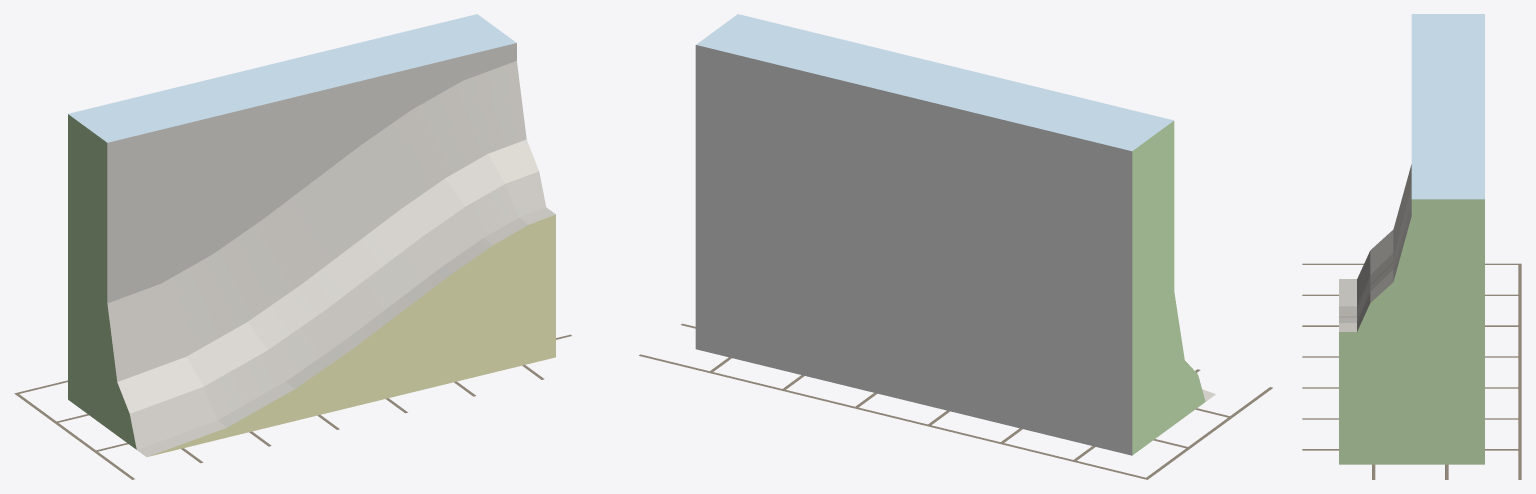
Rendered from Wall_Incline_2x6_Base.glb.
3 views of the same model, side by side, from view 1: azimuth 30°, elevation 25°; view 2: azimuth 150°, elevation 25°; view 3: azimuth 270°, elevation 25° (orthographic). The views are drawn at different scales.
Visible parts, largest first — view 1: Wall_Incline_2x6_Base, Floor; view 2: Wall_Incline_2x6_Base, Floor; view 3: Wall_Incline_2x6_Base, Floor.
Part boxes in pixels (x1=…): Wall_Incline_2x6_Base: x1=68, y1=14, x2=555, y2=456; Floor: x1=14, y1=334, x2=571, y2=479; Wall_Incline_2x6_Base: x1=695, y1=14, x2=1215, y2=455; Floor: x1=639, y1=323, x2=1272, y2=479; Wall_Incline_2x6_Base: x1=1339, y1=14, x2=1484, y2=464; Floor: x1=1302, y1=263, x2=1521, y2=479.
Bounding box in the file's own units: 700 × 400 × 300.
6 materials, 1 textured.
